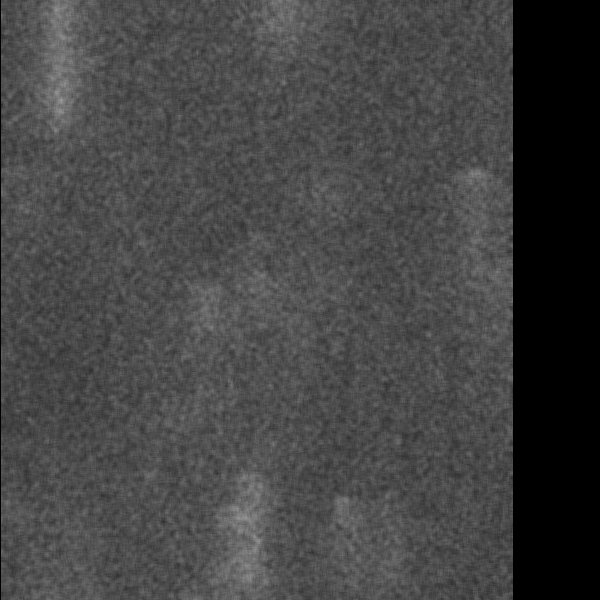spark: (209, 490, 275, 586), (319, 492, 363, 553), (457, 164, 504, 185)
